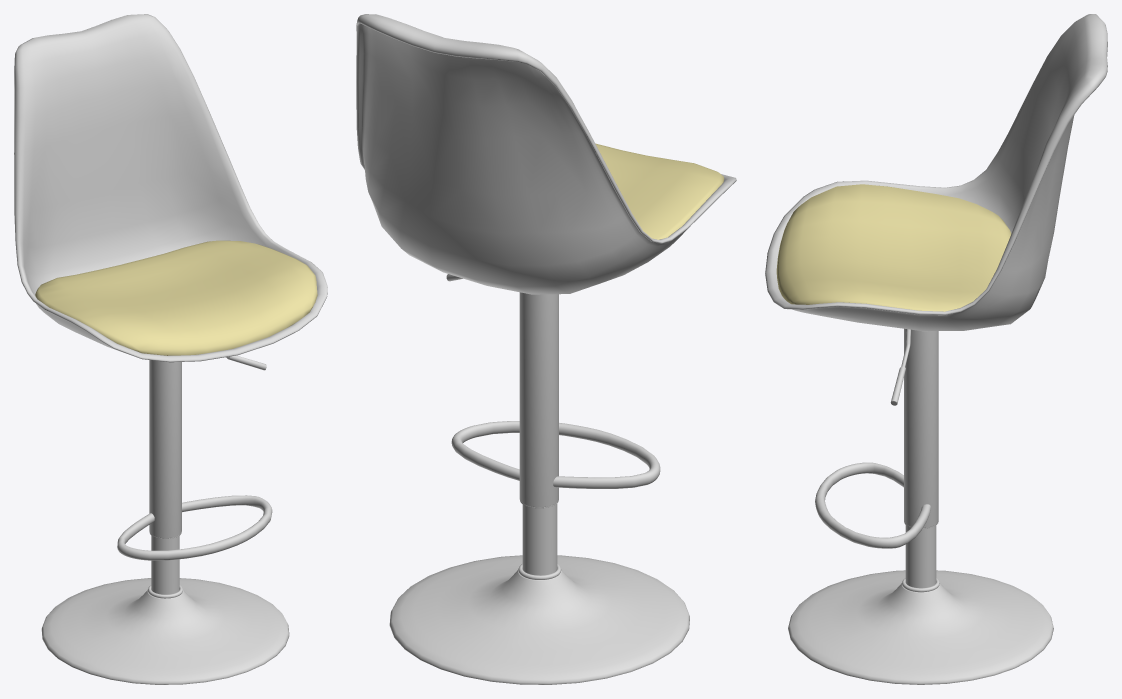
Rendered from Bar Stool 1.fbx.
The picture shows the model from 3 angles, left to right: view 1: azimuth 30°, elevation 25°; view 2: azimuth 150°, elevation 25°; view 3: azimuth 270°, elevation 25°; orthographic projection. The views are drawn at different scales.
Parts seen in each view (by area): view 1: Bar_Stool_1; view 2: Bar_Stool_1; view 3: Bar_Stool_1.
Boxes of the visible parts, bbox=[...] form: Bar_Stool_1: bbox=[14, 14, 327, 684]; Bar_Stool_1: bbox=[356, 14, 736, 684]; Bar_Stool_1: bbox=[765, 14, 1107, 684].
Size of the model in its own units: 47.37 by 102 by 54.16.
